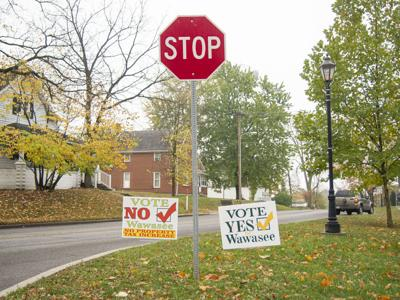stop: (161, 16, 225, 80)
